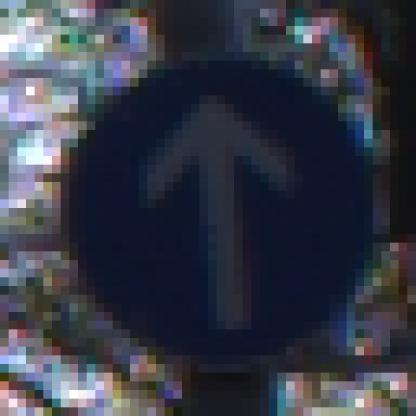AheadOnly: (44, 44, 374, 374)
